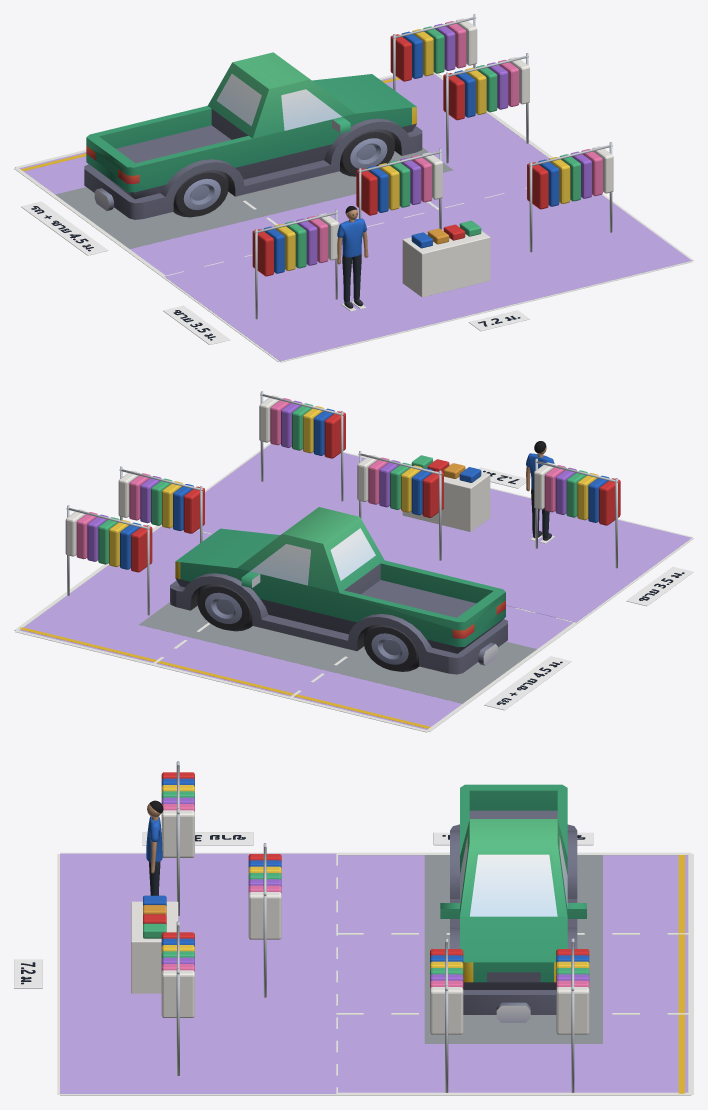
Rendered from lot-boot-3.glb.
The picture shows the model from 3 angles, top to bottom: view 1: azimuth 30°, elevation 25°; view 2: azimuth 150°, elevation 25°; view 3: azimuth 270°, elevation 25°; orthographic projection. The views are drawn at different scales.
Visible parts, largest first — view 1: Cube, body, Cube.041, Cube.042, Cube.064, wheel-back-right, wheel-front-right, Cube.087, Cube.002, Cube.086, Cube.001, sk.002 (+24 smaller); view 2: Cube, body, Cube.041, Cube.042, Cube.064, wheel-front-left, wheel-back-left, Cube.040, Cube.004, Cube.087, Cube.002, Cube.086 (+33 smaller); view 3: Cube, Cube.041, body, Cube.042, Cube.064, Cube.003, Cube.040, Cube.056, Cube.075, Cube.049, Cube.082, Cube.063 (+6 smaller).
Boxes of the visible parts, left/top/right/bottom form: Cube: left=165, top=188, right=691, bottom=361; body: left=84, top=52, right=422, bottom=219; Cube.041: left=19, top=74, right=549, bottom=275; Cube.042: left=55, top=147, right=453, bottom=248; Cube.064: left=402, top=225, right=490, bottom=297; wheel-back-right: left=173, top=170, right=228, bottom=217; wheel-front-right: left=340, top=129, right=395, bottom=176; Cube.087: left=21, top=201, right=108, bottom=255; Cube.002: left=14, top=167, right=279, bottom=361; Cube.086: left=163, top=305, right=230, bottom=344; Cube.001: left=280, top=261, right=692, bottom=362; sk.002: left=337, top=218, right=366, bottom=257; Cube: left=198, top=444, right=691, bottom=622; body: left=170, top=507, right=507, bottom=674; Cube.041: left=19, top=526, right=572, bottom=729; Cube.042: left=139, top=602, right=536, bottom=703; Cube.064: left=402, top=460, right=490, bottom=531; wheel-front-left: left=197, top=584, right=252, bottom=631; wheel-back-left: left=363, top=624, right=418, bottom=671; Cube.040: left=20, top=627, right=430, bottom=728; Cube.004: left=15, top=630, right=427, bottom=732; Cube.087: left=484, top=656, right=571, bottom=710; Cube.002: left=426, top=538, right=693, bottom=731; Cube.086: left=626, top=566, right=693, bottom=606; Cube: left=60, top=853, right=336, bottom=1093; Cube.041: left=336, top=855, right=688, bottom=1092; body: left=440, top=784, right=586, bottom=1022; Cube.042: left=424, top=855, right=602, bottom=1043; Cube.064: left=131, top=901, right=178, bottom=993; Cube.003: left=60, top=1092, right=691, bottom=1095; Cube.040: left=678, top=855, right=684, bottom=1093; Cube.056: left=556, top=987, right=589, bottom=1034; Cube.075: left=248, top=892, right=281, bottom=939; Cube.049: left=430, top=987, right=463, bottom=1034; Cube.082: left=161, top=970, right=194, bottom=1017; Cube.063: left=161, top=810, right=194, bottom=857.
Size of the model in its own units: 7.87 by 1.8 by 8.62.
Materials: 25 (1 with a texture image).
